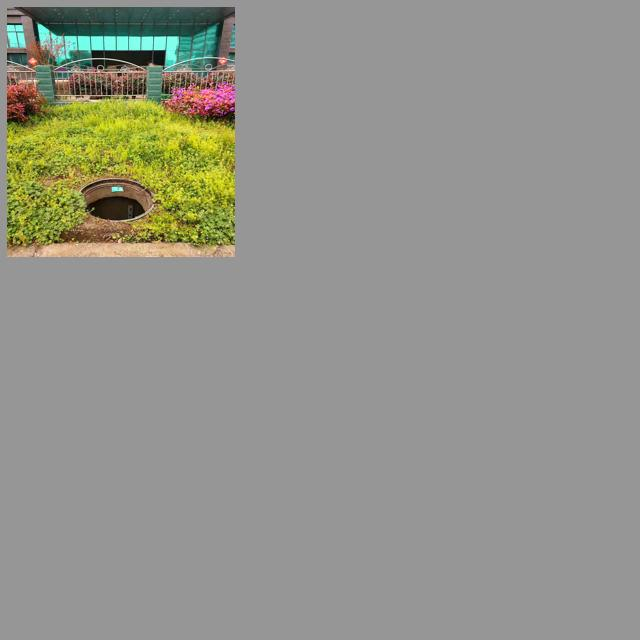lose: (75, 177, 155, 221)
